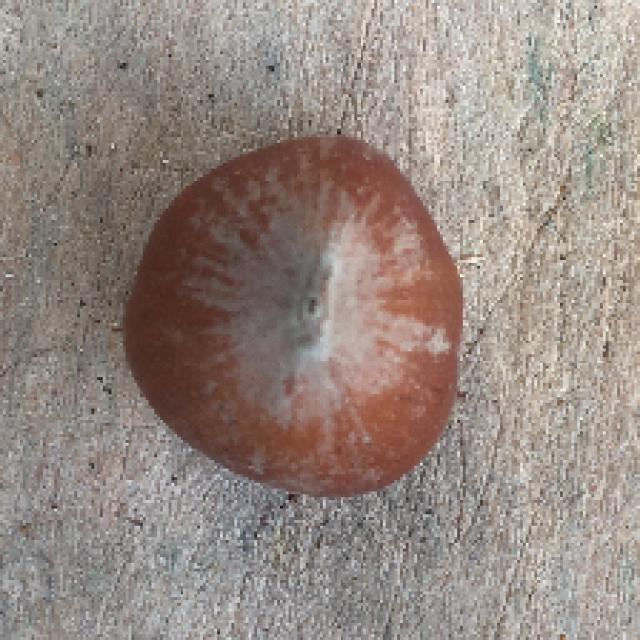QualityHazelnut: (125, 136, 466, 501)
